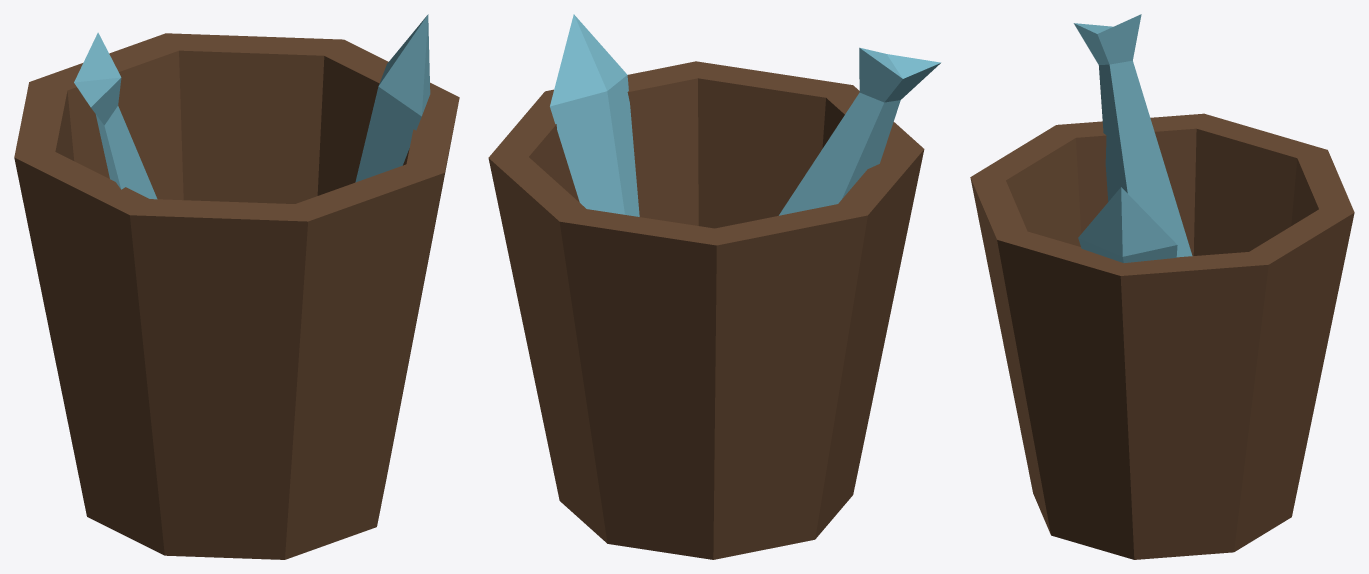
File: Bucket_w_fish_mat.fbx
3 views of the same model, side by side, from view 1: azimuth 30°, elevation 25°; view 2: azimuth 150°, elevation 25°; view 3: azimuth 270°, elevation 25° (orthographic). The views are drawn at different scales.
Parts seen in each view (by area): view 1: Bucket_w_fish_mat; view 2: Bucket_w_fish_mat; view 3: Bucket_w_fish_mat.
Boxes of the visible parts, left/top/right/bottom form: Bucket_w_fish_mat: left=14, top=14, right=459, bottom=559; Bucket_w_fish_mat: left=488, top=14, right=940, bottom=559; Bucket_w_fish_mat: left=970, top=14, right=1354, bottom=559.
Bounding box in the file's own units: 14.57 × 17.9 × 14.52.
